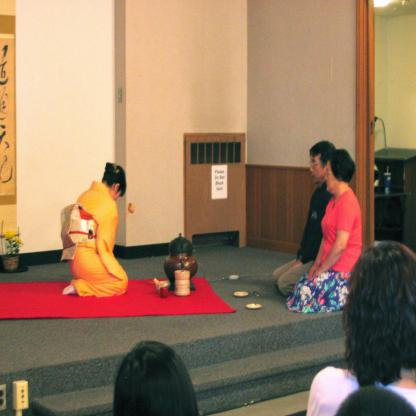face: (310, 156, 326, 184), (325, 162, 339, 193), (109, 189, 124, 204)
